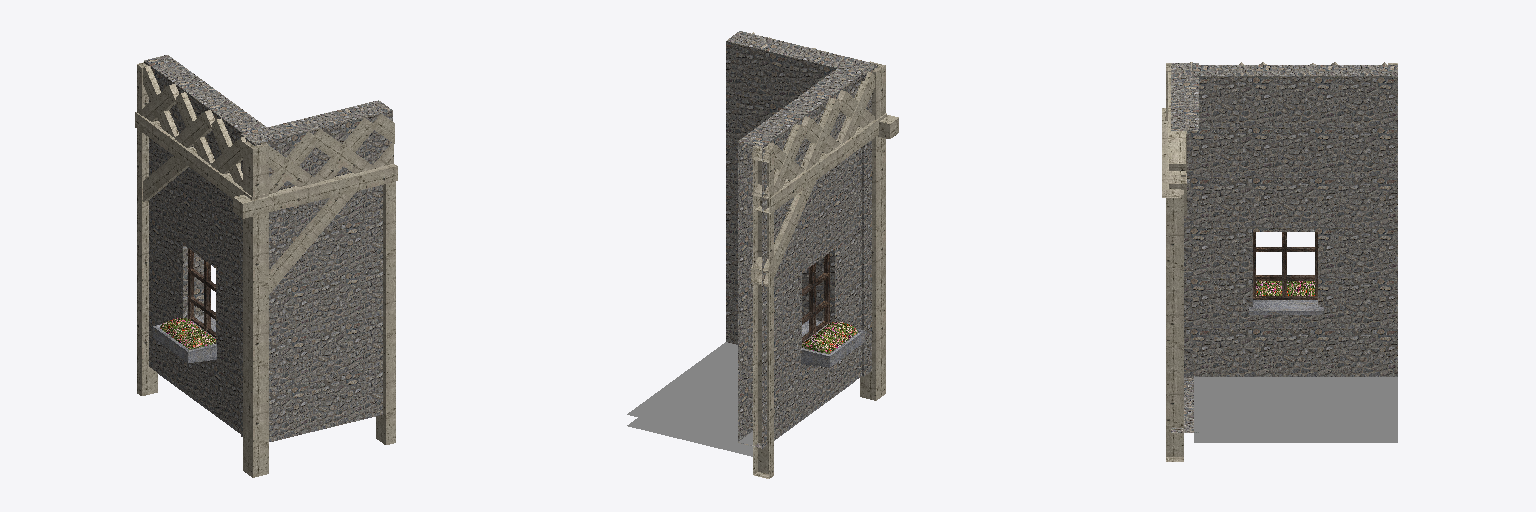
The picture shows the model from 3 angles: view 1: azimuth 30°, elevation 25°; view 2: azimuth 150°, elevation 25°; view 3: azimuth 270°, elevation 25°; orthographic projection.
Visible parts, largest first — view 1: WallCorner; view 2: WallCorner; view 3: WallCorner.
Boxes of the visible parts, <box> form: WallCorner: <box>135,55,397,477</box>; WallCorner: <box>627,31,898,478</box>; WallCorner: <box>1162,62,1397,461</box>.
Size of the model in its own units: 5.18 by 9.92 by 6.42.
Materials: 6 (5 with a texture image).